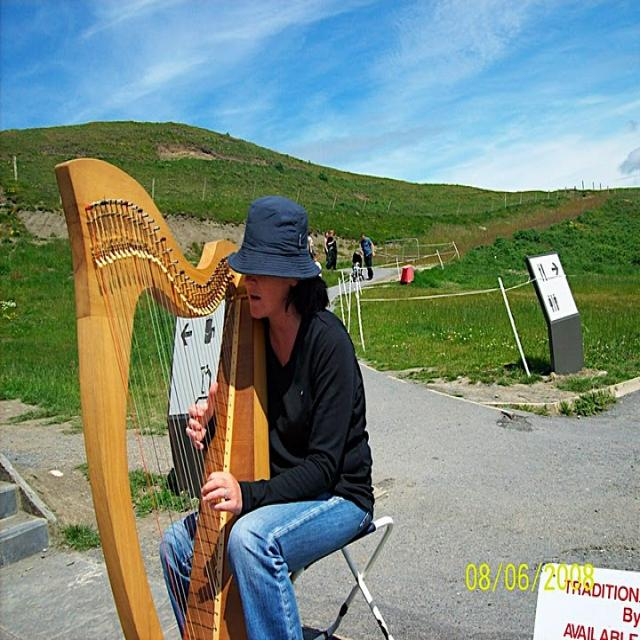harp: (55, 156, 274, 640)
